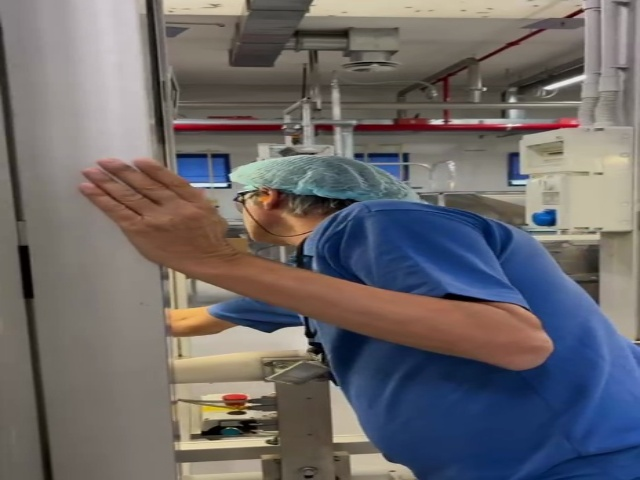Earplug: (258, 186, 277, 208)
Hairnet: (231, 155, 425, 202)
No_Helmet: (232, 153, 420, 201)
No_Vest: (305, 199, 640, 456)
Person: (78, 153, 640, 480)
Safety_Goggles: (227, 185, 267, 206)
